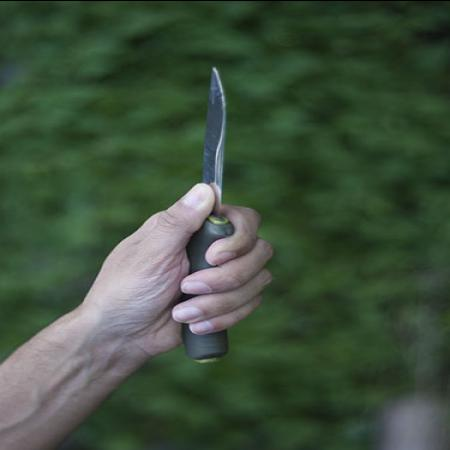long weapon: (166, 51, 280, 333)
